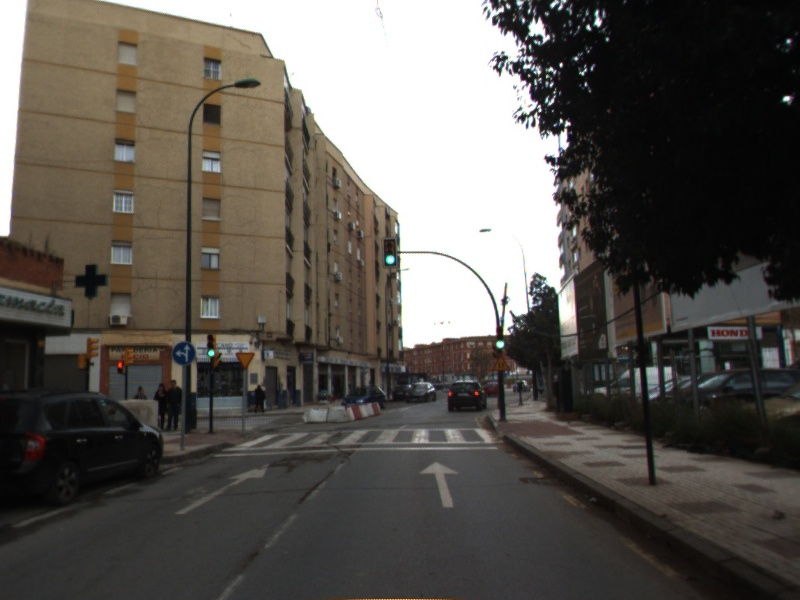STRAIGHT: (172, 461, 273, 518), (415, 459, 464, 511)
